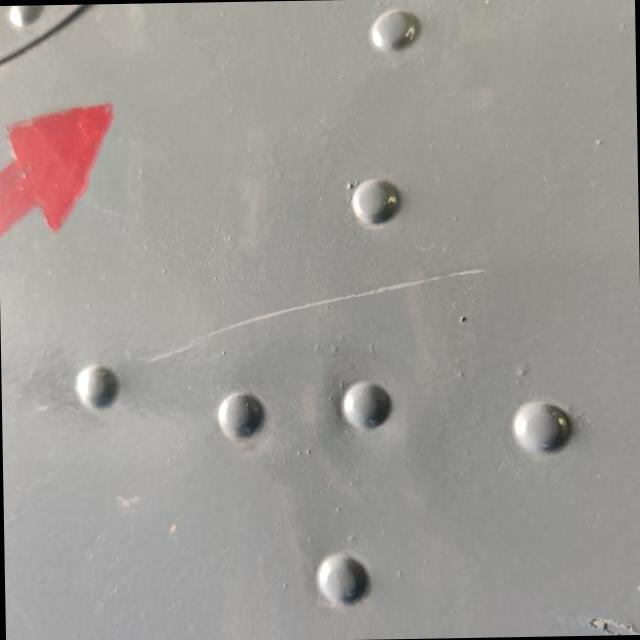Scratch: (138, 265, 490, 365)
